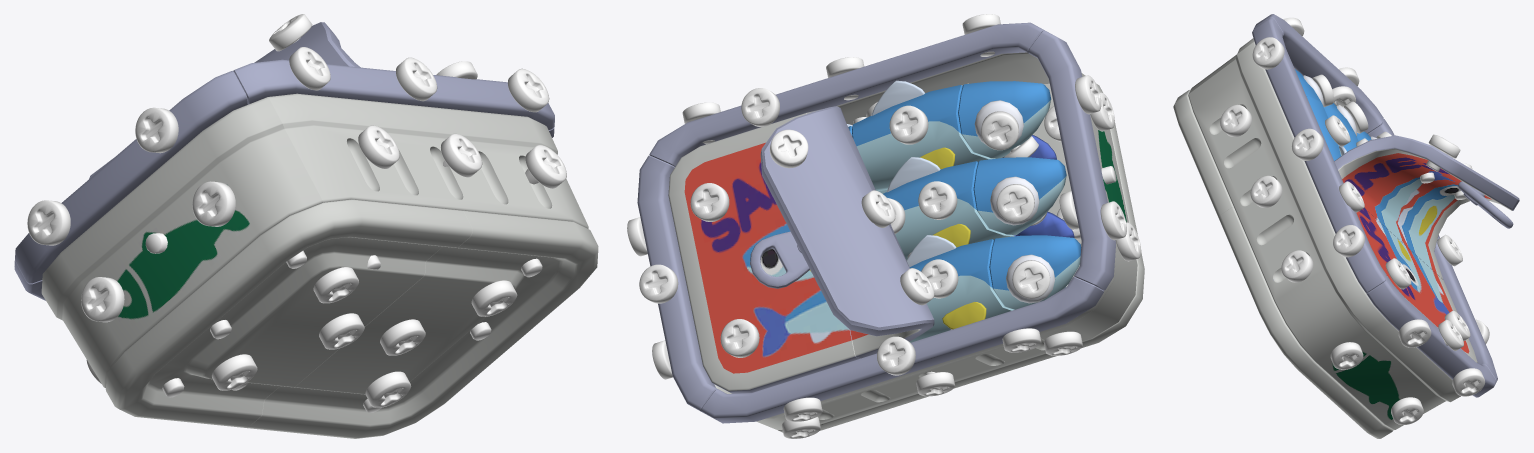
File: Sardine_GroupE.fbx
3 renders of one model, left to right at view 1: azimuth 30°, elevation 25°; view 2: azimuth 150°, elevation 25°; view 3: azimuth 270°, elevation 25°, orthographic. The views are drawn at different scales.
Parts seen in each view (by area): view 1: Sardine.034, Sardine.030, Sardine.031, Sardine.033, Screw (×16), Sardine.037, Sardine.036, Sardine.001, Screw (2), Sardine.028; view 2: Screw (×29), Sardine.002, Sardine.001, Sardine.029, Sardine.036, Sardine.037, Sardine.035, Sardine.020, Sardine.028, Sardine.023, Sardine.027, Sardine.022 (+7 smaller); view 3: Sardine.033, Screw (×20), Sardine.001, Sardine.032, Sardine.036, Sardine.030, Sardine.002, Sardine.035, Sardine.037, Sardine.034, Sardine.029, Sardine.020 (+2 smaller).
Part boxes in pixels (x1,y1,x2,y2): Sardine.034: [105, 199, 472, 427]; Sardine.030: [245, 210, 598, 438]; Sardine.031: [42, 97, 322, 379]; Sardine.033: [268, 93, 588, 228]; Screw (×16): [27, 14, 566, 407]; Sardine.037: [15, 71, 248, 283]; Sardine.036: [233, 59, 554, 129]; Sardine.001: [89, 22, 360, 178]; Screw (2): [380, 319, 425, 355]; Sardine.028: [41, 283, 106, 388]; Screw (×29): [627, 14, 1141, 438]; Sardine.002: [668, 112, 860, 393]; Sardine.001: [750, 106, 934, 358]; Sardine.029: [701, 276, 1103, 423]; Sardine.036: [649, 22, 1044, 166]; Sardine.037: [1028, 30, 1115, 290]; Sardine.035: [637, 155, 717, 411]; Sardine.020: [852, 80, 994, 190]; Sardine.028: [757, 293, 1126, 429]; Sardine.023: [883, 157, 1013, 259]; Sardine.027: [906, 235, 1013, 342]; Sardine.022: [973, 157, 1066, 235]; Sardine.033: [1188, 42, 1364, 334]; Screw (×20): [1220, 37, 1485, 424]; Sardine.001: [1334, 135, 1519, 279]; Sardine.032: [1293, 291, 1460, 429]; Sardine.036: [1252, 17, 1386, 292]; Sardine.030: [1218, 207, 1393, 438]; Sardine.002: [1356, 208, 1477, 362]; Sardine.035: [1366, 276, 1496, 397]; Sardine.037: [1254, 14, 1383, 133]; Sardine.034: [1173, 90, 1233, 218]; Sardine.029: [1368, 118, 1497, 381]; Sardine.020: [1306, 96, 1341, 160].
Size of the model in its own units: 9.77 by 8.26 by 7.62.
3 materials, 2 textured.
